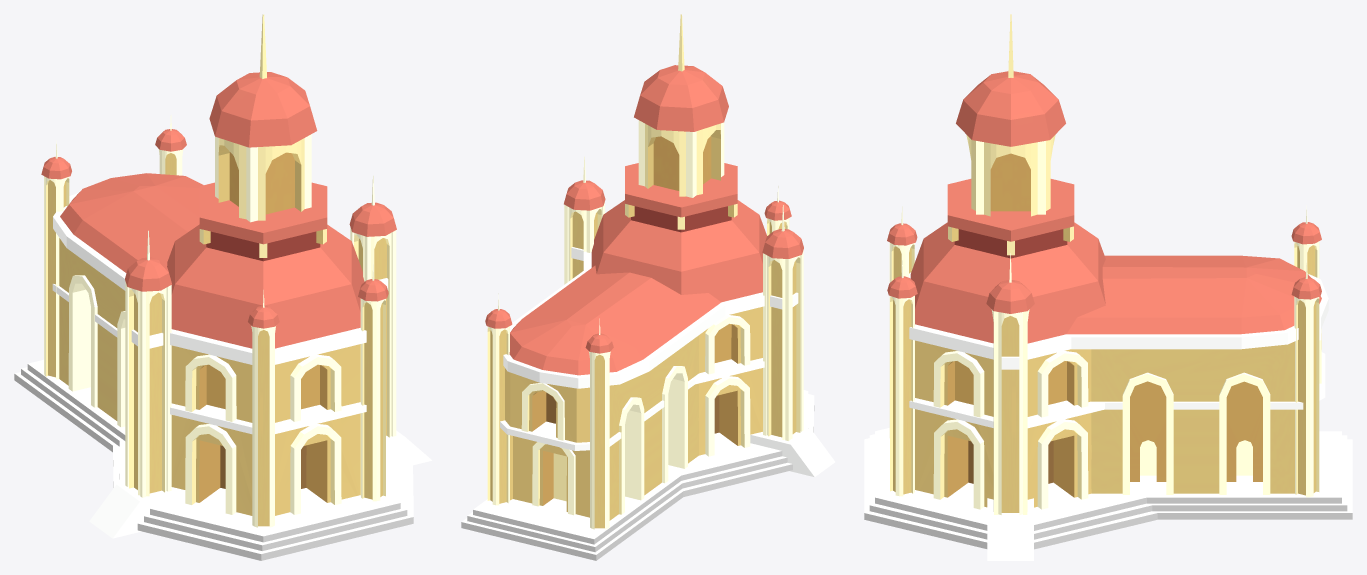
File: temple.002.glb
3 renders of one model, left to right at view 1: azimuth 30°, elevation 25°; view 2: azimuth 150°, elevation 25°; view 3: azimuth 270°, elevation 25°, orthographic. The views are drawn at different scales.
Visible parts, largest first — view 1: temple.002(Clone); view 2: temple.002(Clone); view 3: temple.002(Clone).
Part boxes in pixels (box(x1,y1,x2,y2)): temple.002(Clone): box(14, 14, 431, 560); temple.002(Clone): box(461, 14, 834, 560); temple.002(Clone): box(864, 14, 1352, 560).
Bounding box in the file's own units: 14.7 × 20.91 × 19.64.
Materials: 1 (1 with a texture image).
